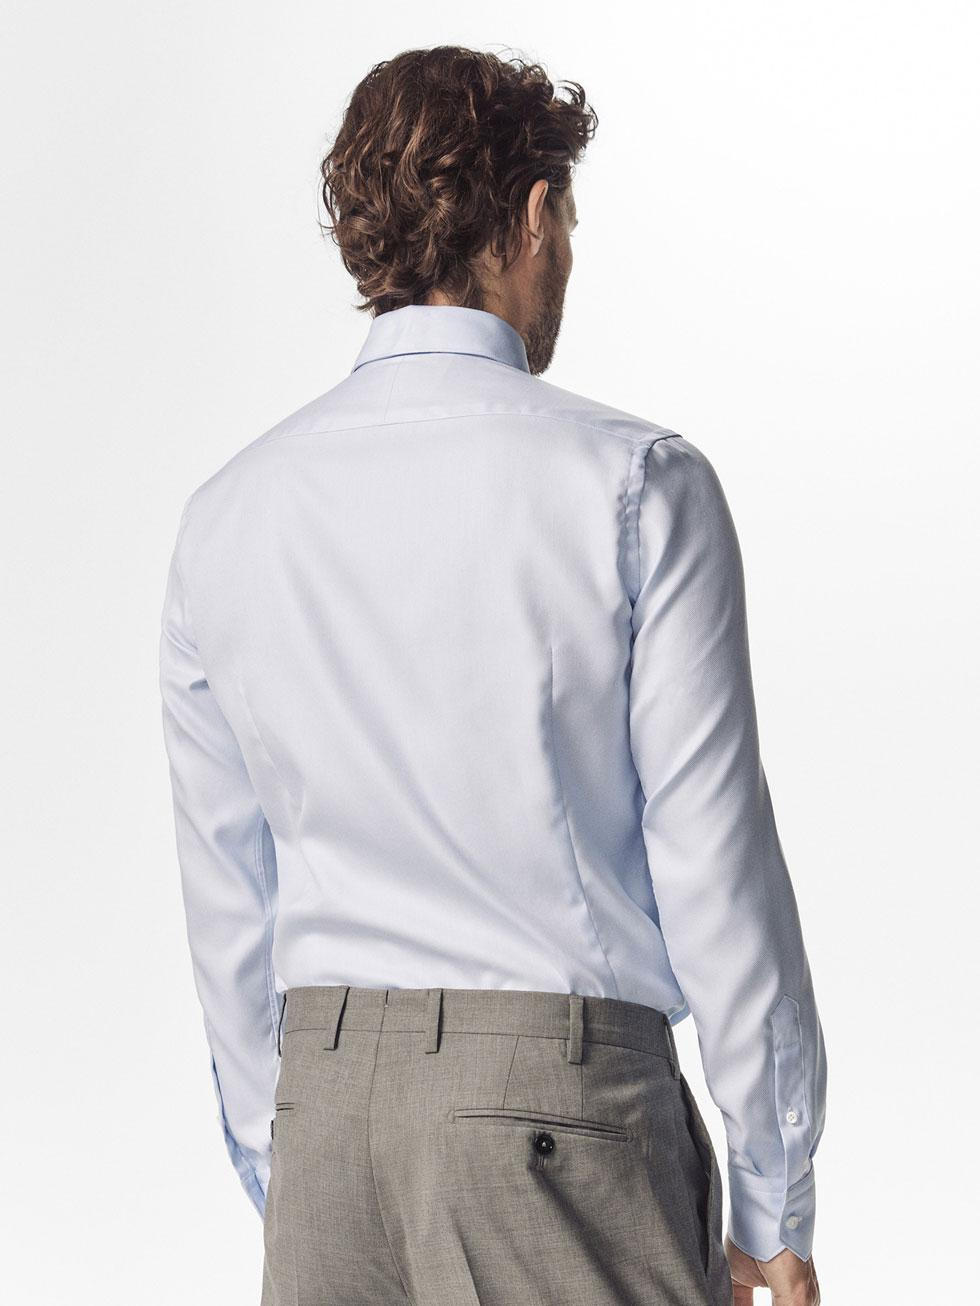teeshirt: (113, 343, 837, 1201)
